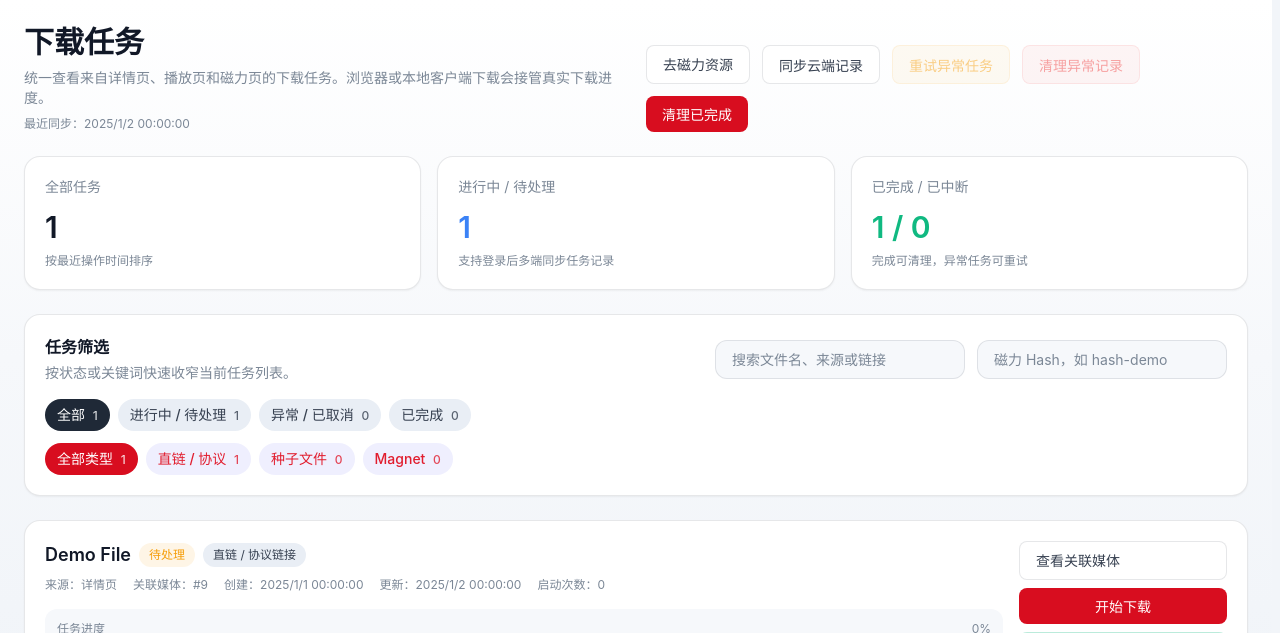
Scenario: DownloadsView › starts and clears tasks with visible feedback
This screenshot has width=1280, height=633.
Click the button "开始下载". click: (1123, 606)
box: [1019,588,1227,624]
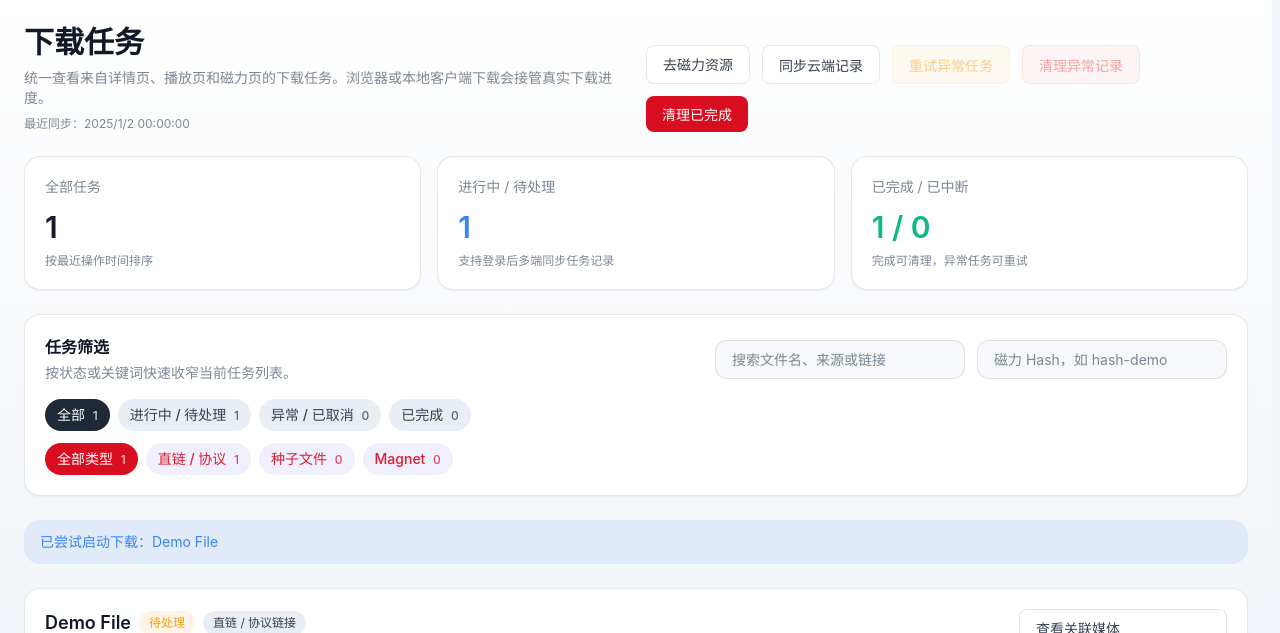
Expected: the text "已尝试启动下载：Demo File" is shown, [24,520,1248,564]
Click the button "清理已完成". click: (697, 114)
box: [646,96,748,132]
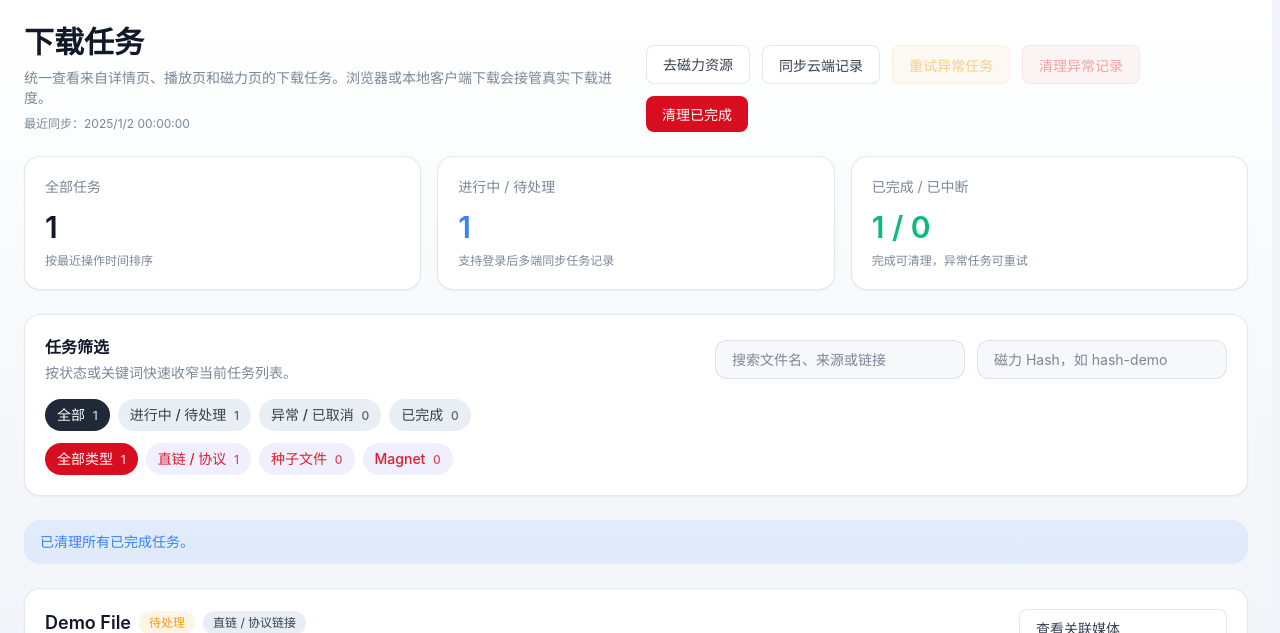
Expected: the text "已清理所有已完成任务" is shown, [40,533,194,550]
